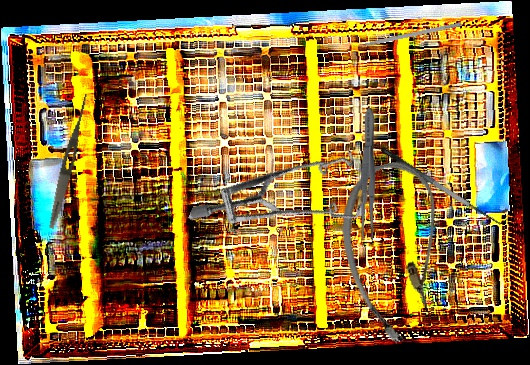Cannula: (327, 154, 466, 350)
Chopper: (348, 16, 462, 50)
Dressing Forceps: (45, 92, 92, 230), (358, 107, 379, 242)
Spatula Surgical: (379, 136, 510, 233)
Speculum: (187, 102, 385, 282)
